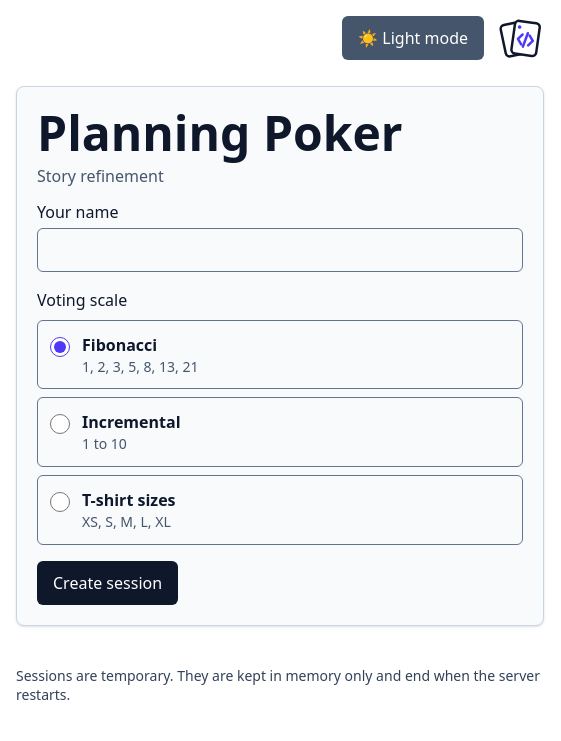
Test: CreateGamePage › sends no request and shows the validation error for a empty name
This screenshot has width=561, height=741.
Click the button "Create session" at (108, 583), box [37,561,178,605]
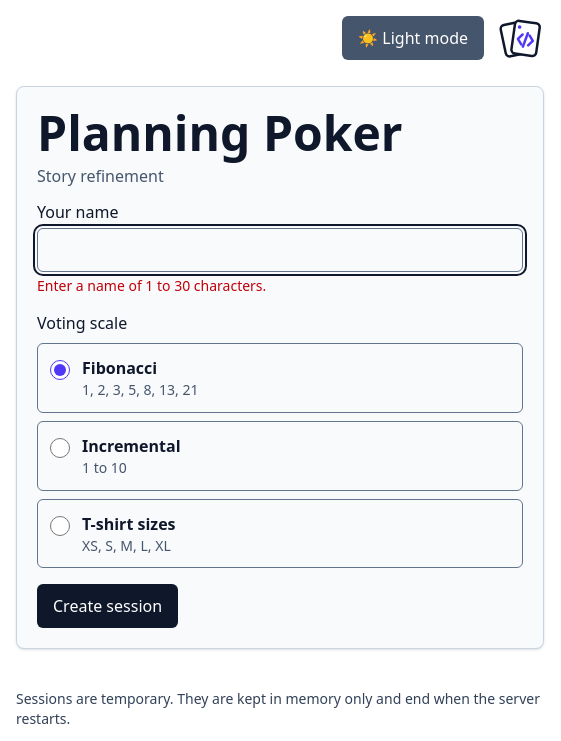
Result: the text "Enter a name of 1 to 30 characters." is shown at [37,276,266,295]
